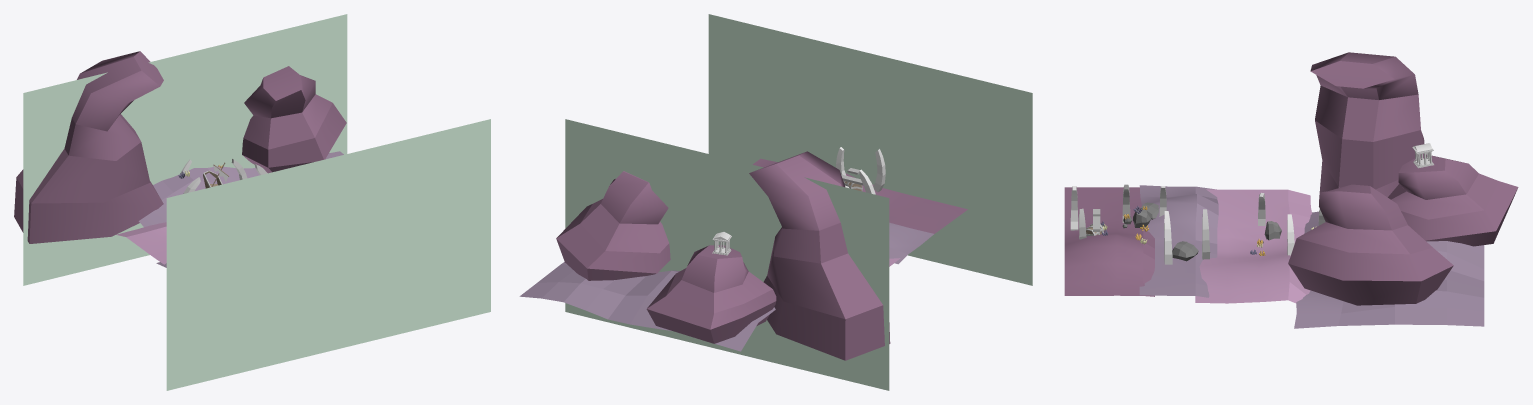
Rendered from SceneV1.fbx.
The picture shows the model from 3 angles, left to right: view 1: azimuth 30°, elevation 25°; view 2: azimuth 150°, elevation 25°; view 3: azimuth 270°, elevation 25°; orthographic projection. The views are drawn at different scales.
Parts seen in each view (by area): view 1: Water, BackWater, pCube24, pCube25, polySurface6, polySurface5; view 2: Water, BackWater, pCube24, pCube25, pCube33, polySurface6, polySurface1, polySurface3; view 3: pCube25, pCube24, polySurface5, pCube33, polySurface1, polySurface6, polySurface3, pCube13.
Boxes of the visible parts, x1,y1,x2,y2 form: Water: (166, 119, 490, 390); BackWater: (23, 14, 347, 285); pCube24: (14, 51, 163, 243); pCube25: (242, 66, 346, 173); polySurface6: (138, 151, 343, 227); polySurface5: (116, 222, 166, 264); Water: (708, 14, 1032, 285); BackWater: (565, 119, 889, 390); pCube24: (749, 151, 890, 360); pCube25: (556, 171, 670, 280); pCube33: (646, 245, 776, 343); polySurface6: (519, 262, 775, 351); polySurface1: (753, 158, 967, 239); polySurface3: (889, 222, 933, 264); pCube25: (1288, 184, 1453, 305); pCube24: (1310, 52, 1424, 200); polySurface5: (1195, 189, 1311, 303); pCube33: (1388, 153, 1518, 246); polySurface1: (1064, 187, 1154, 296); polySurface6: (1294, 211, 1484, 328); polySurface3: (1139, 185, 1218, 297); pCube13: (1164, 211, 1172, 264).
Bounding box in the file's own units: 114 × 67.65 × 130.
